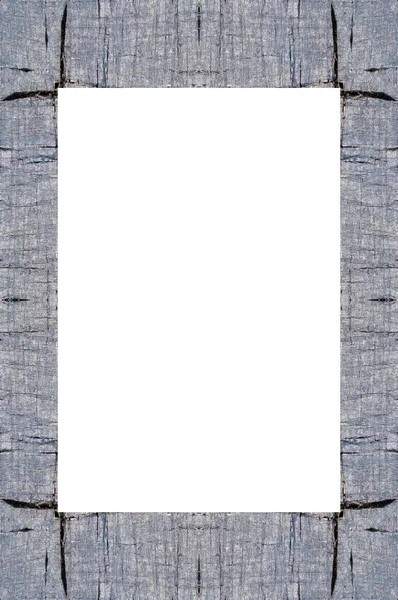page: (58, 89, 342, 511)
